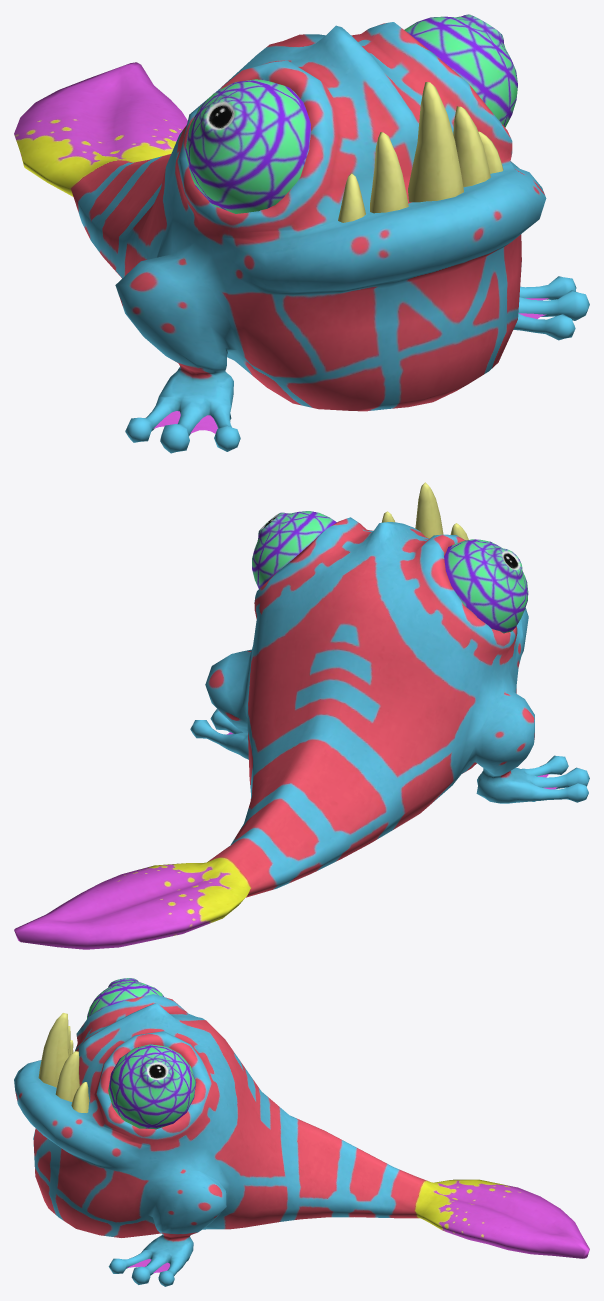
Rendered from alebrije-mistico.glb.
The picture shows the model from 3 angles, top to bottom: view 1: azimuth 30°, elevation 25°; view 2: azimuth 150°, elevation 25°; view 3: azimuth 270°, elevation 25°; orthographic projection. The views are drawn at different scales.
Parts seen in each view (by area): view 1: Object_2; view 2: Object_2; view 3: Object_2.
Boxes of the visible parts, bbox=[...] form: Object_2: bbox=[14, 14, 589, 453]; Object_2: bbox=[14, 482, 589, 949]; Object_2: bbox=[14, 978, 589, 1286].
Bounding box in the file's own units: 22.47 × 15.11 × 36.84.
1 material, 1 textured.
